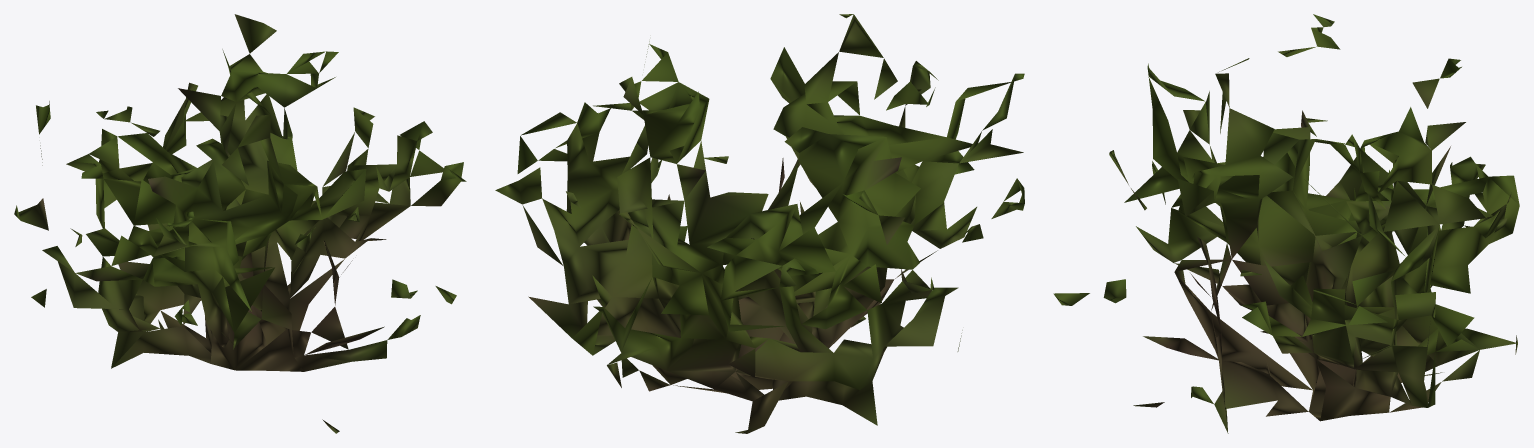
File: shrub.2.glb
3 renders of one model, left to right at view 1: azimuth 30°, elevation 25°; view 2: azimuth 150°, elevation 25°; view 3: azimuth 270°, elevation 25°, orthographic. The views are drawn at different scales.
Visible parts, largest first — view 1: lod; view 2: lod; view 3: lod.
Boxes of the visible parts, left/top/right/bottom form: lod: left=14, top=14, right=466, bottom=433; lod: left=495, top=14, right=1024, bottom=433; lod: left=1053, top=14, right=1519, bottom=433.
Bounding box in the file's own units: 0.7443 × 0.5717 × 0.7299.
